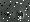person: (19, 11, 24, 19)
